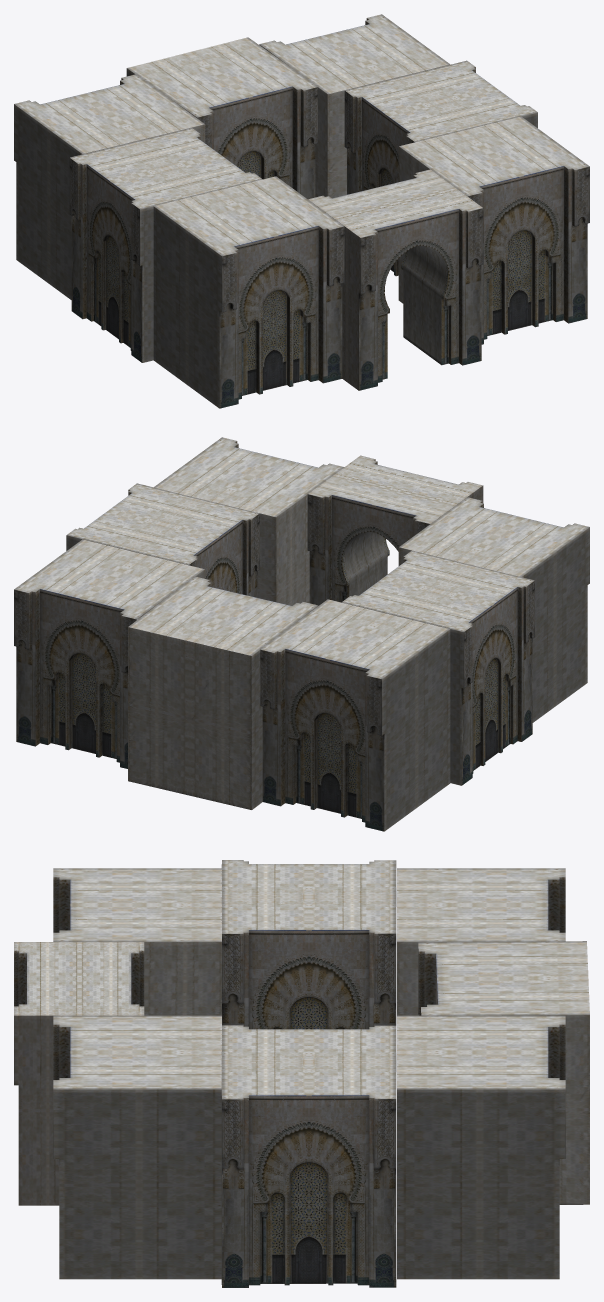
File: building16.dae
3 views of the same model, one above another, from view 1: azimuth 30°, elevation 25°; view 2: azimuth 150°, elevation 25°; view 3: azimuth 270°, elevation 25° (orthographic). The views are drawn at different scales.
Parts seen in each view (by area): view 1: meshU3D; view 2: meshU3D; view 3: meshU3D.
Part boxes in pixels (bbox=[...]): meshU3D: bbox=[14, 14, 589, 408]; meshU3D: bbox=[14, 437, 589, 831]; meshU3D: bbox=[14, 860, 589, 1287].
Bounding box in the file's own units: 1326 × 491 × 1349.
